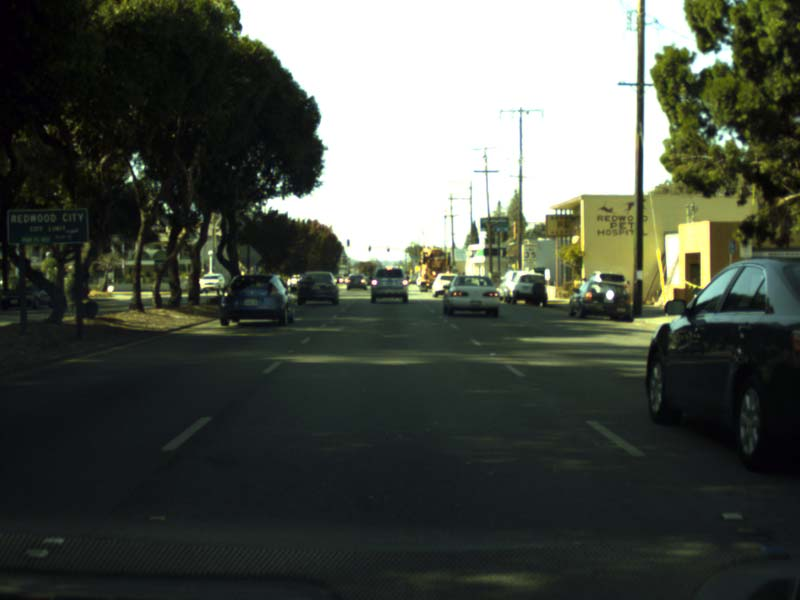Red: (387, 245, 390, 252)
